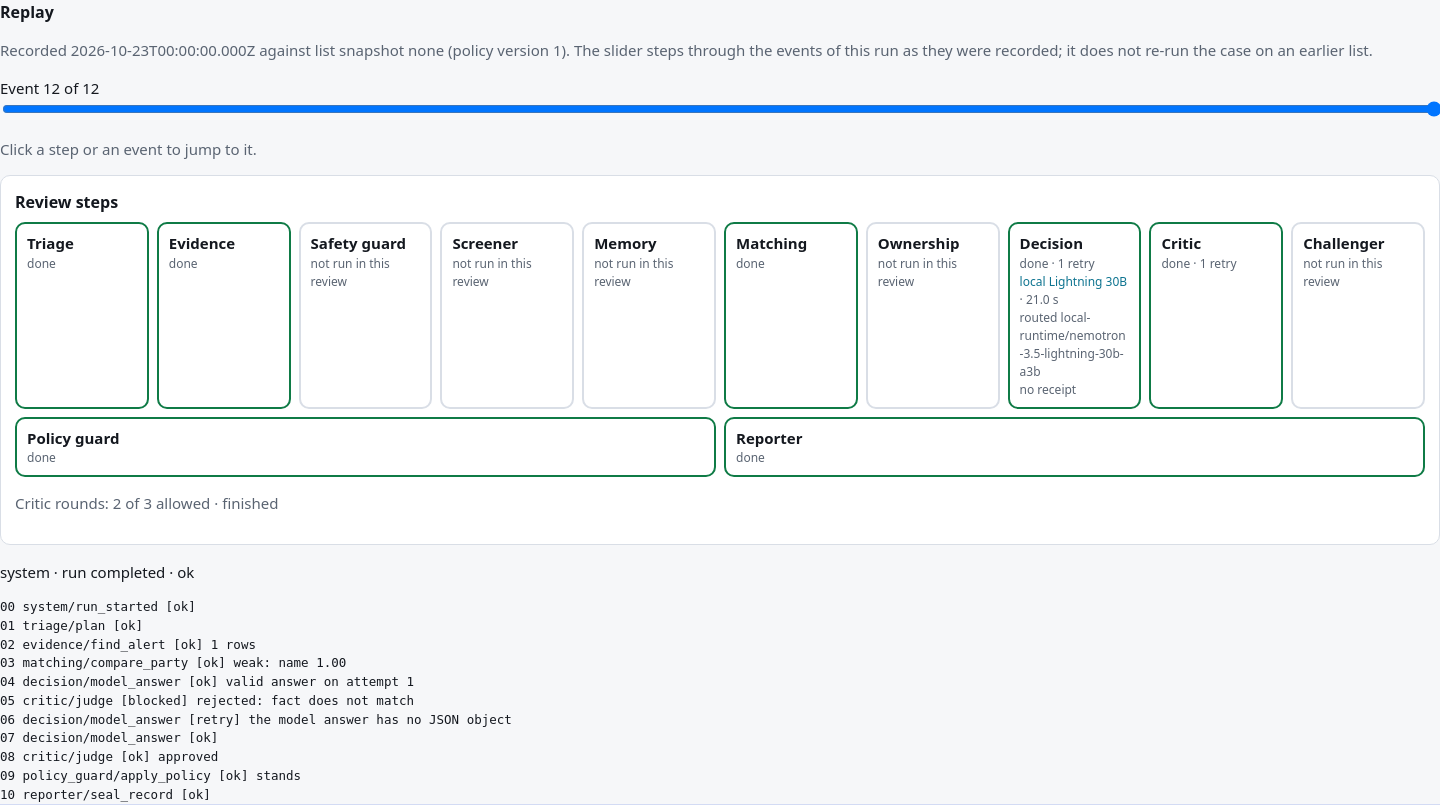
the replay, by clicking › jumps to an event when its row is clicked, and marks that row
Click the button "03 matching/compare_party [ok] weak: name 1.00": (53, 663) top-left (0, 654), bottom-right (1439, 673)
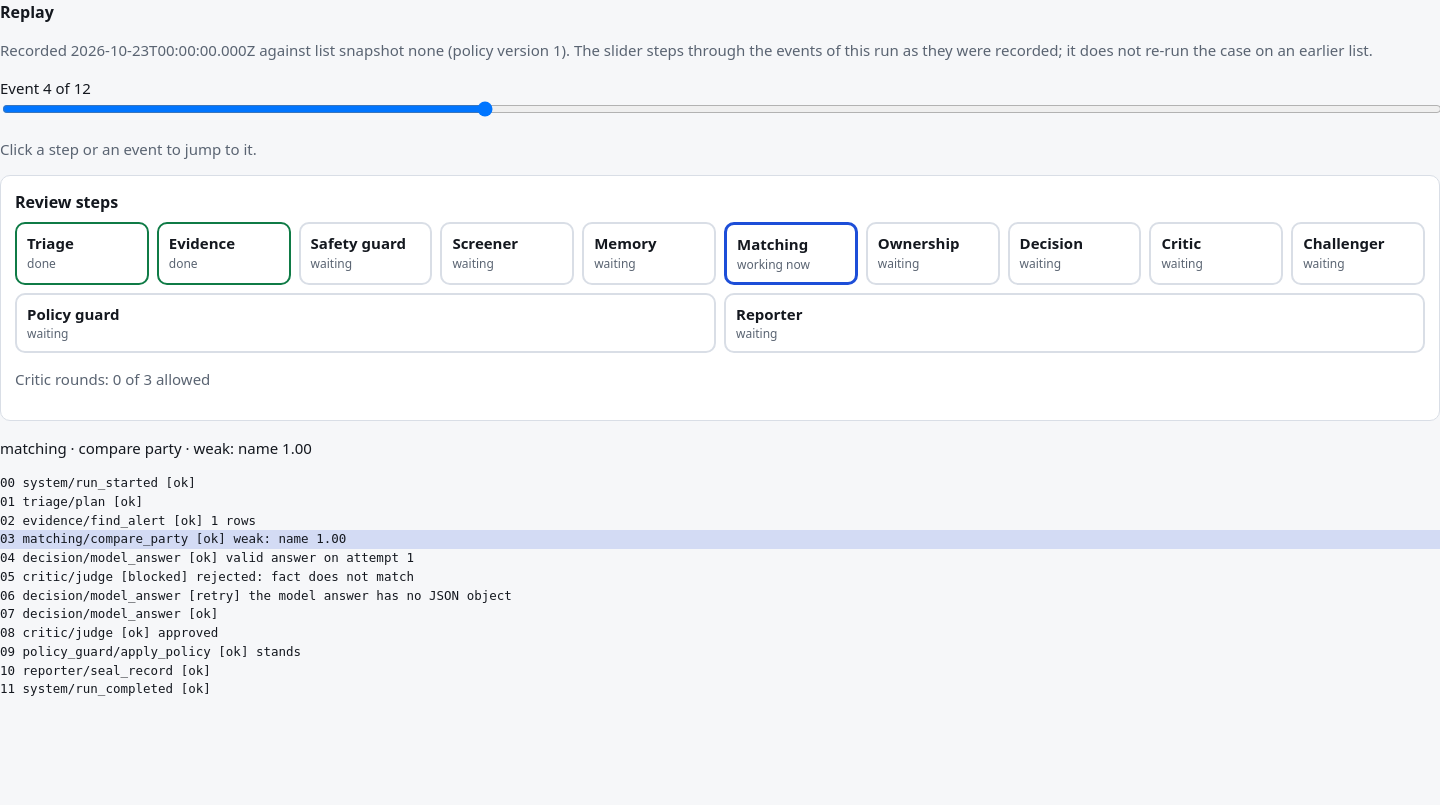
Expected: the text with test id "replay-current" shows "weak: name 1.00", top-left (0, 438), bottom-right (312, 458)
